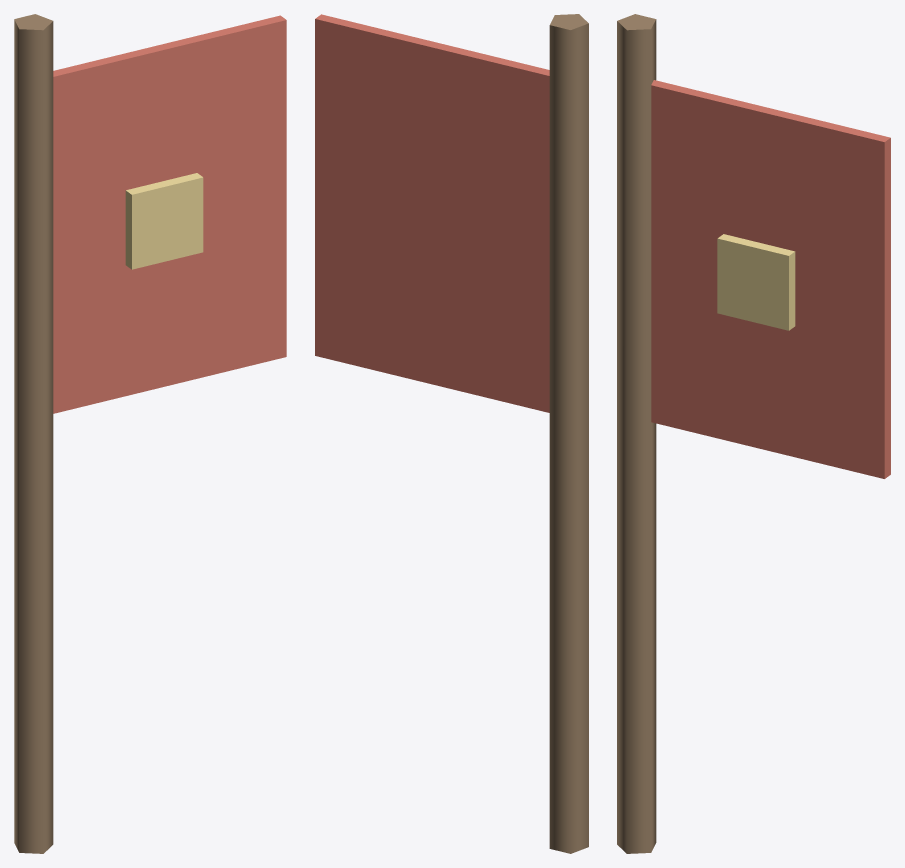
The model's file is banner.glb.
The picture shows the model from 3 angles, left to right: view 1: azimuth 30°, elevation 25°; view 2: azimuth 150°, elevation 25°; view 3: azimuth 330°, elevation 25°; orthographic projection.
Parts seen in each view (by area): view 1: banner; view 2: banner; view 3: banner.
Boxes of the visible parts, left/top/right/bottom form: banner: left=14, top=14, right=286, bottom=853; banner: left=315, top=14, right=588, bottom=853; banner: left=617, top=14, right=890, bottom=853.
Size of the model in its own units: 0.7476 by 2.2 by 0.0905.
